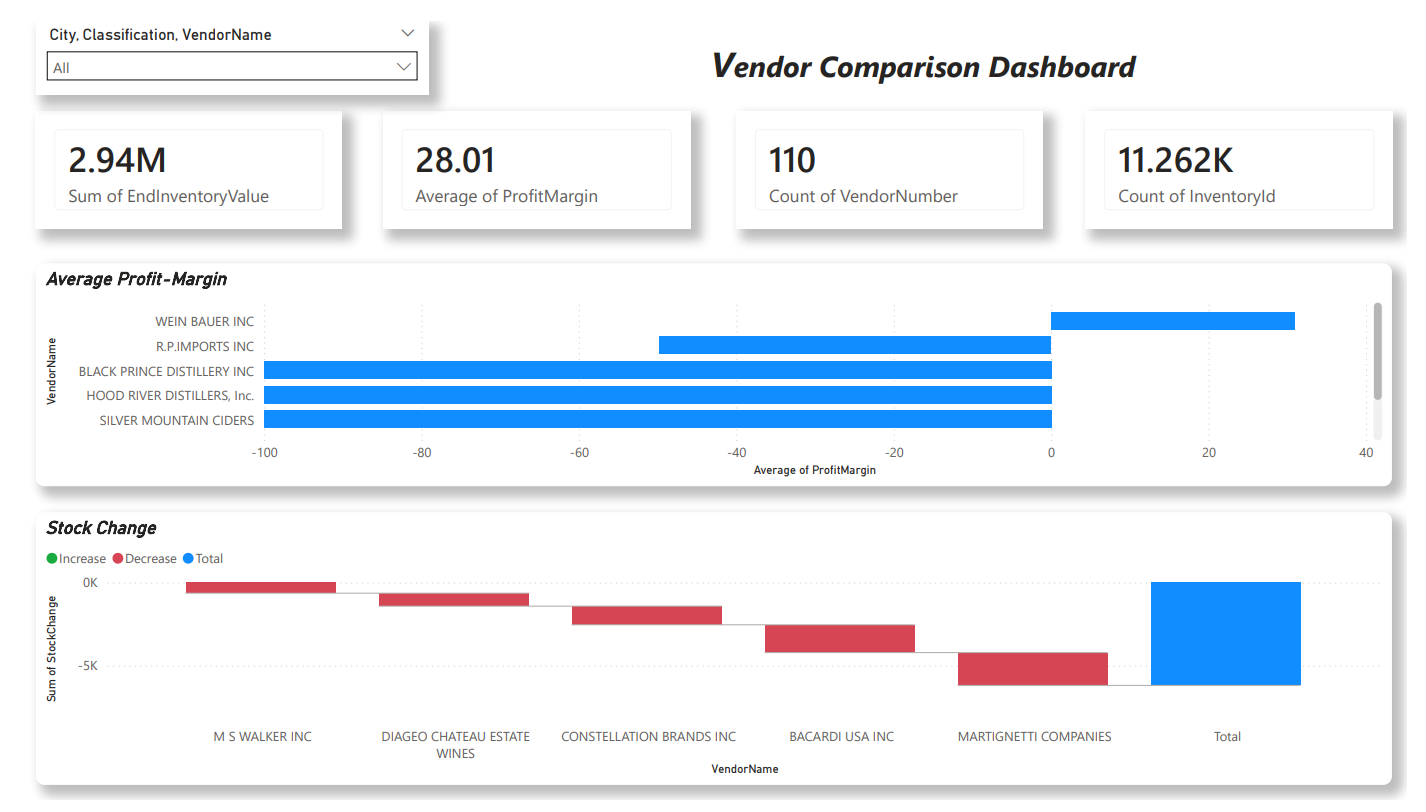

What the dashboard file says about the page in this screenshot:
{"tool":"powerbi","page":{"name":"Least Performers","canvas":[1280,720],"ordinal":1},"visuals":[{"type":"cardVisual","fields":{"Data":["Sum(final_inventory_analysis.EndInventoryValue)"]},"box":[11.7,83.3,283.3,108.3],"z":0},{"type":"cardVisual","fields":{"Data":["Avg(final_inventory_analysis.ProfitMargin)"]},"box":[333.3,83.3,283.3,108.3],"z":1},{"type":"cardVisual","fields":{"Data":["Count(final_inventory_analysis.VendorNumber)"]},"box":[660,83.3,283.3,108.3],"z":2},{"type":"cardVisual","fields":{"Data":["Count(final_inventory_analysis.InventoryId)"]},"box":[983.3,83.3,283.3,108.3],"z":3},{"type":"clusteredBarChart","title":"Average Profit-Margin ","fields":{"Category":["final_inventory_analysis.VendorName"],"Y":["Avg(final_inventory_analysis.ProfitMargin)"]},"box":[12,224,1254,206],"z":5},{"type":"waterfallChart","title":"Stock Change ","fields":{"Y":["Sum(final_inventory_analysis.StockChange)"],"Category":["final_inventory_analysis.VendorName"]},"box":[12,454,1254,252],"z":8},{"type":"slicer","fields":{"Values":["final_inventory_analysis.City","final_inventory_analysis.Classification","final_inventory_analysis.VendorName"]},"box":[11.7,0,363.3,68.3],"z":9},{"type":"textbox","box":[398.3,11.7,868.3,56.7],"z":10}]}

Visuals, with their boxes in screenshot pixels (x1, y1, x2, y2), scaled from the page's 1280x720 canvas onto the 1426x812 screenshot:
cardVisual - Sum(final_inventory_analysis.EndInventoryValue): [13,94,329,216]
cardVisual - Avg(final_inventory_analysis.ProfitMargin): [371,94,687,216]
cardVisual - Count(final_inventory_analysis.VendorNumber): [735,94,1051,216]
cardVisual - Count(final_inventory_analysis.InventoryId): [1095,94,1411,216]
"Average Profit-Margin " clusteredBarChart: [13,253,1410,485]
"Stock Change " waterfallChart: [13,512,1410,796]
slicer - final_inventory_analysis.City x final_inventory_analysis.Classification: [13,0,418,77]
textbox: [444,13,1411,77]
